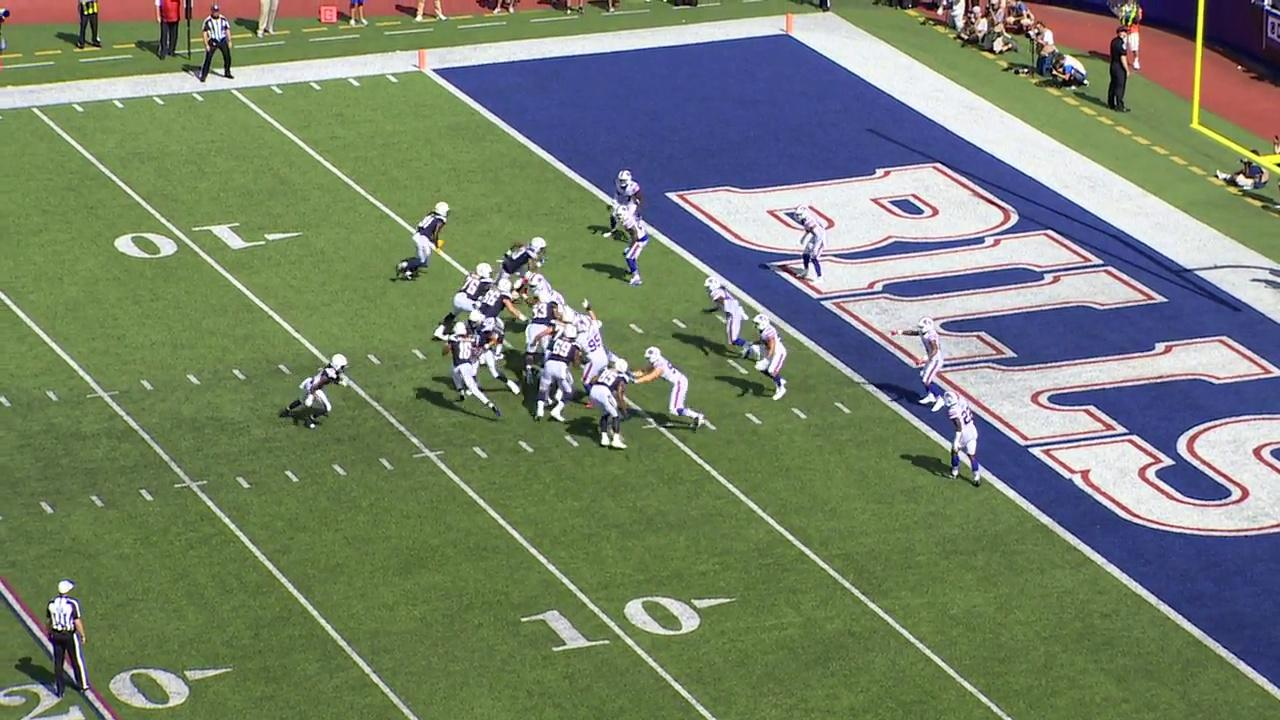player: (629, 343, 706, 433), (439, 320, 505, 421), (888, 310, 948, 413), (276, 352, 351, 431), (460, 308, 522, 398), (529, 322, 583, 425), (524, 307, 578, 406), (433, 260, 497, 343), (394, 200, 453, 283), (473, 277, 529, 361), (699, 274, 753, 359), (586, 356, 634, 451), (574, 296, 613, 410), (521, 289, 566, 386), (942, 387, 985, 487), (742, 311, 789, 402), (602, 167, 646, 242), (612, 204, 651, 288), (492, 235, 549, 286), (793, 202, 828, 285), (522, 269, 568, 307)
ref: (42, 573, 95, 698), (193, 4, 242, 81)
